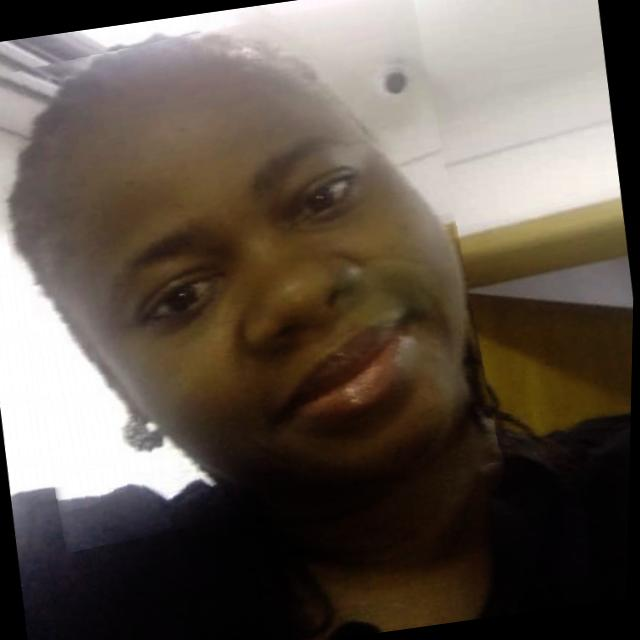happy: (0, 0, 507, 550)
